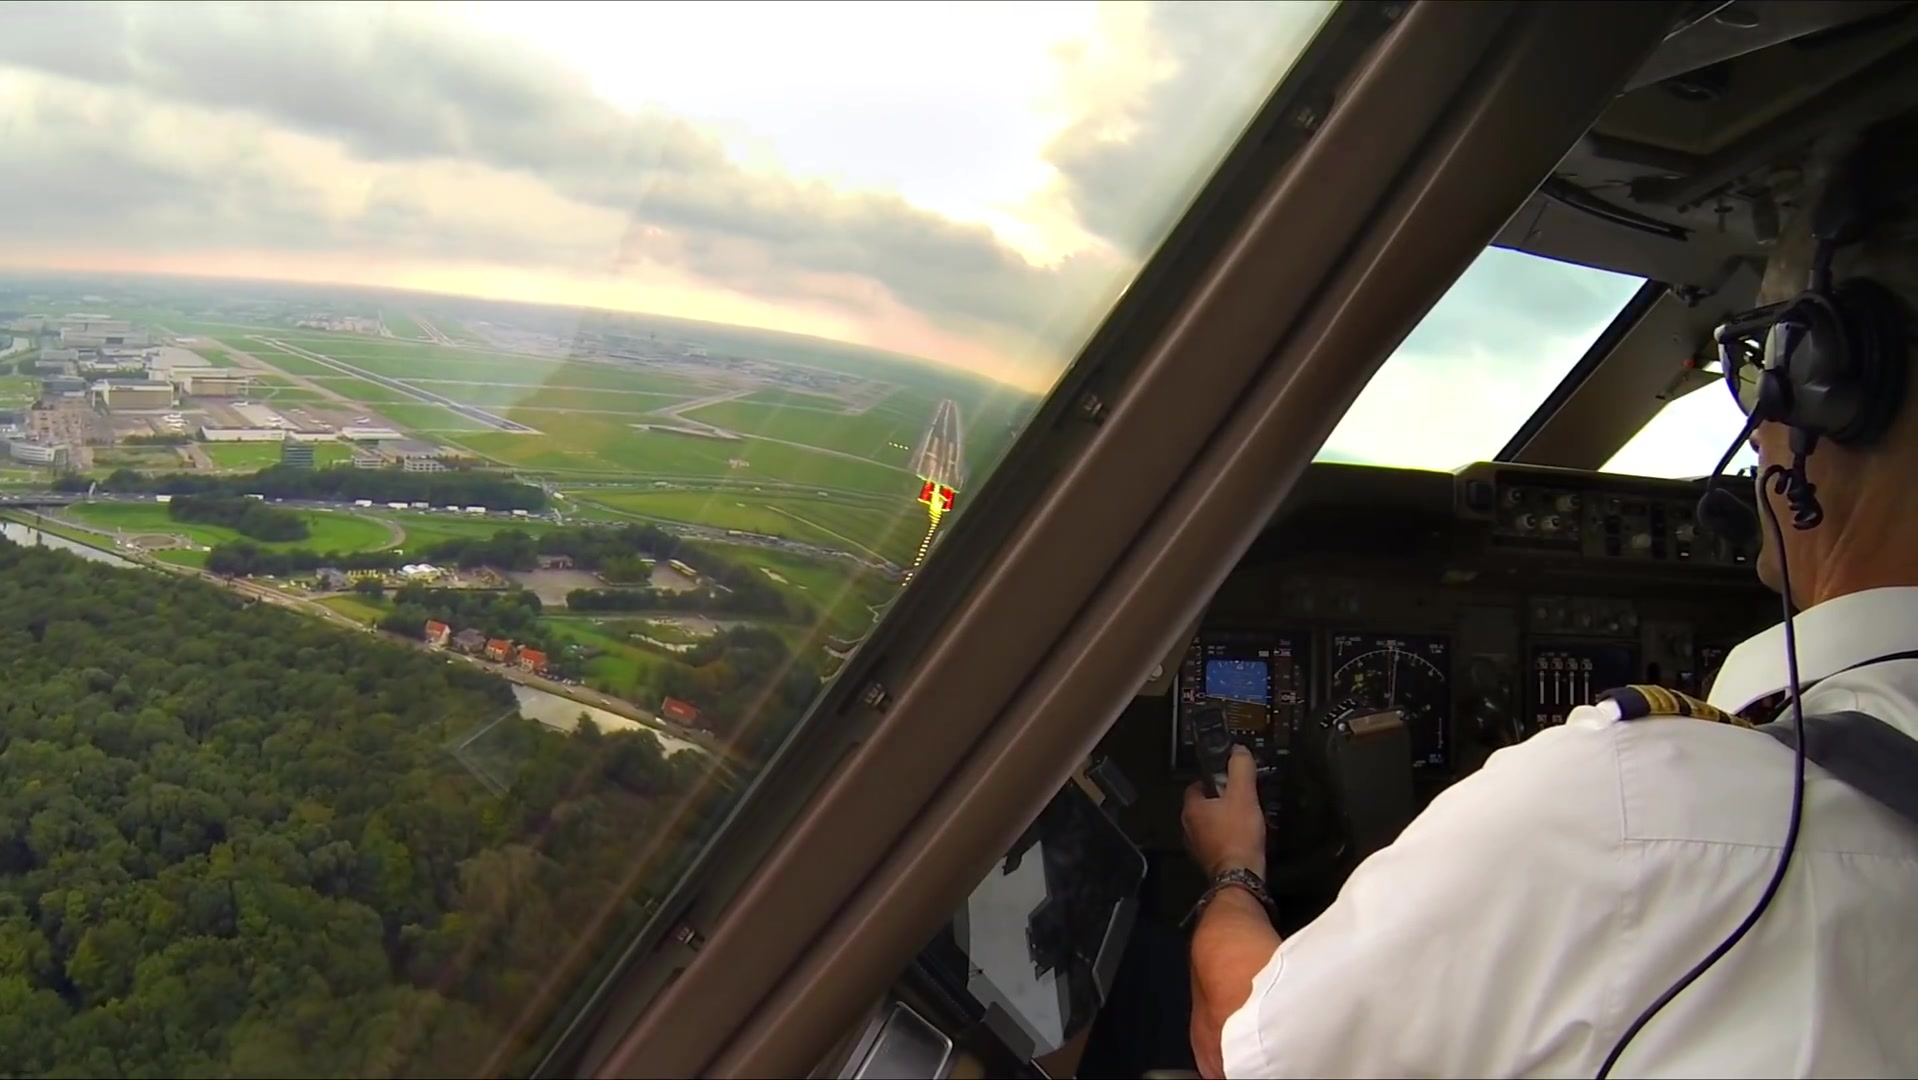runway: (906, 394, 972, 485)
